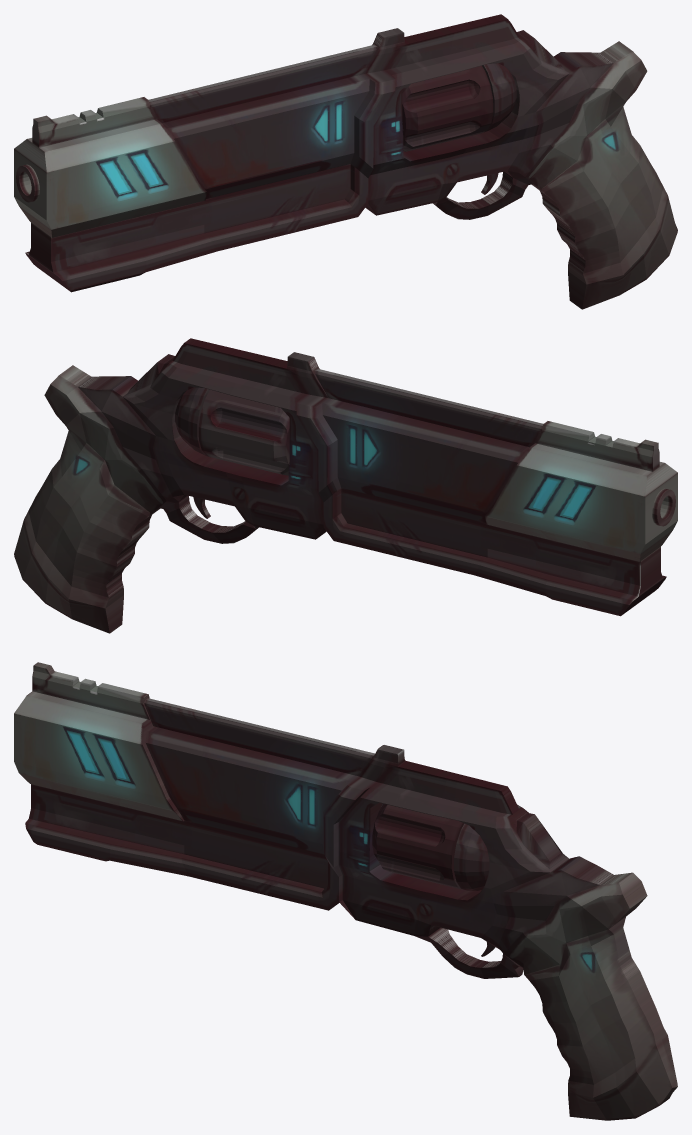
Rendered from ultrakill_revolver_animation_test.fbx.
3 views of the same model, one above another, from view 1: azimuth 30°, elevation 25°; view 2: azimuth 150°, elevation 25°; view 3: azimuth 330°, elevation 25° (orthographic).
Visible parts, largest first — view 1: Revolver, cylinder, cylinder_holder; view 2: Revolver, cylinder, cylinder_holder; view 3: Revolver, cylinder, cylinder_holder.
Boxes of the visible parts, x1,y1,x2,y2 form: Revolver: (14, 14, 677, 309); cylinder: (402, 65, 493, 151); cylinder_holder: (482, 63, 516, 132); Revolver: (14, 338, 677, 633); cylinder: (198, 389, 289, 475); cylinder_holder: (175, 387, 210, 457); Revolver: (14, 662, 677, 1120); cylinder: (372, 804, 464, 889); cylinder_holder: (454, 823, 489, 890).
Bounding box in the file's own units: 367 × 171 × 40.7.
Materials: 4 (4 with a texture image).
